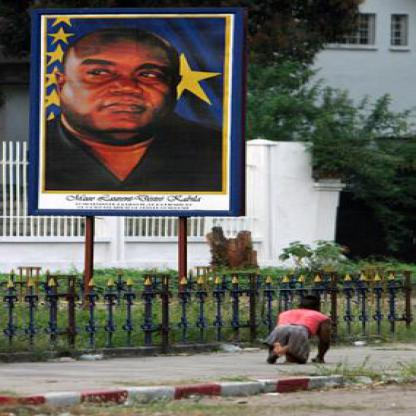face: (62, 29, 176, 140)
